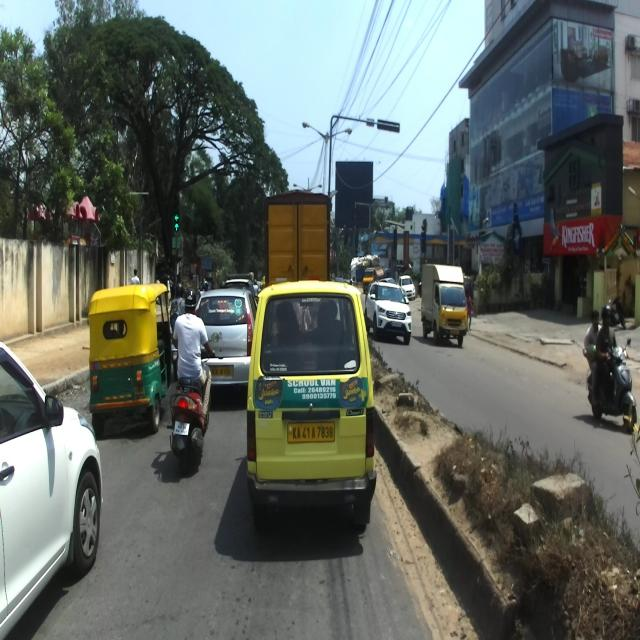autorickshaw: (88, 281, 172, 438)
car: (246, 276, 377, 542), (0, 332, 101, 640), (192, 289, 256, 403), (364, 280, 411, 344)
scooter: (168, 333, 218, 477), (585, 338, 637, 434)
truck: (420, 262, 468, 346)
